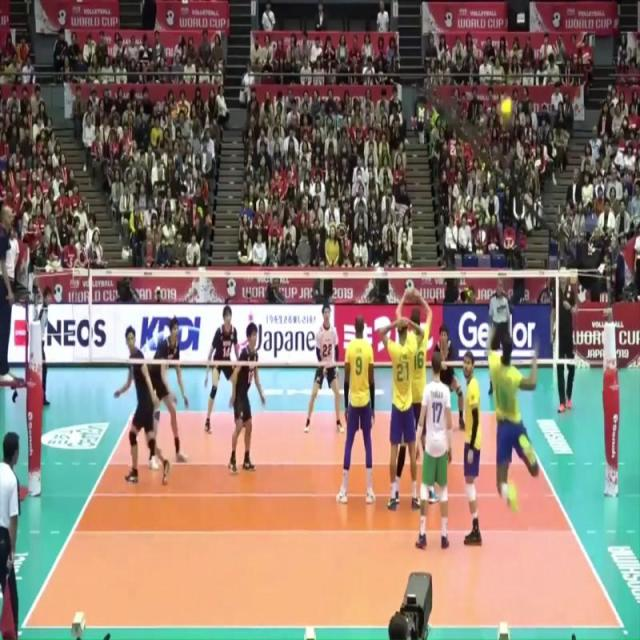volleyball: (497, 90, 516, 124)
